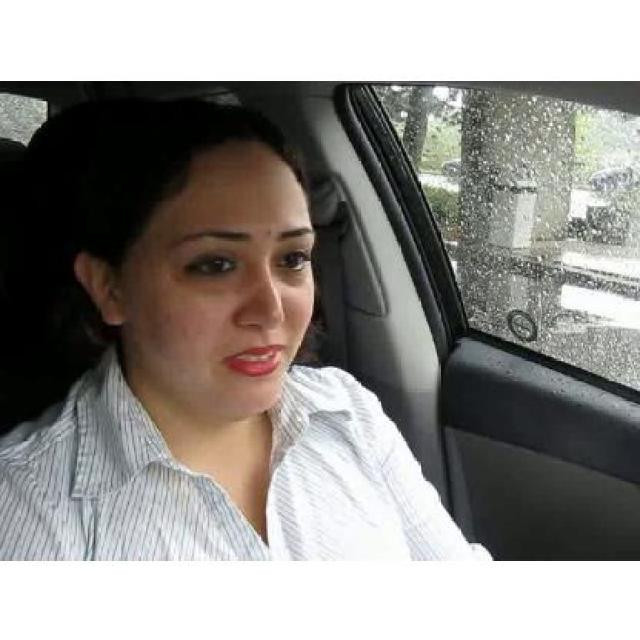attentif: (72, 106, 316, 414)
